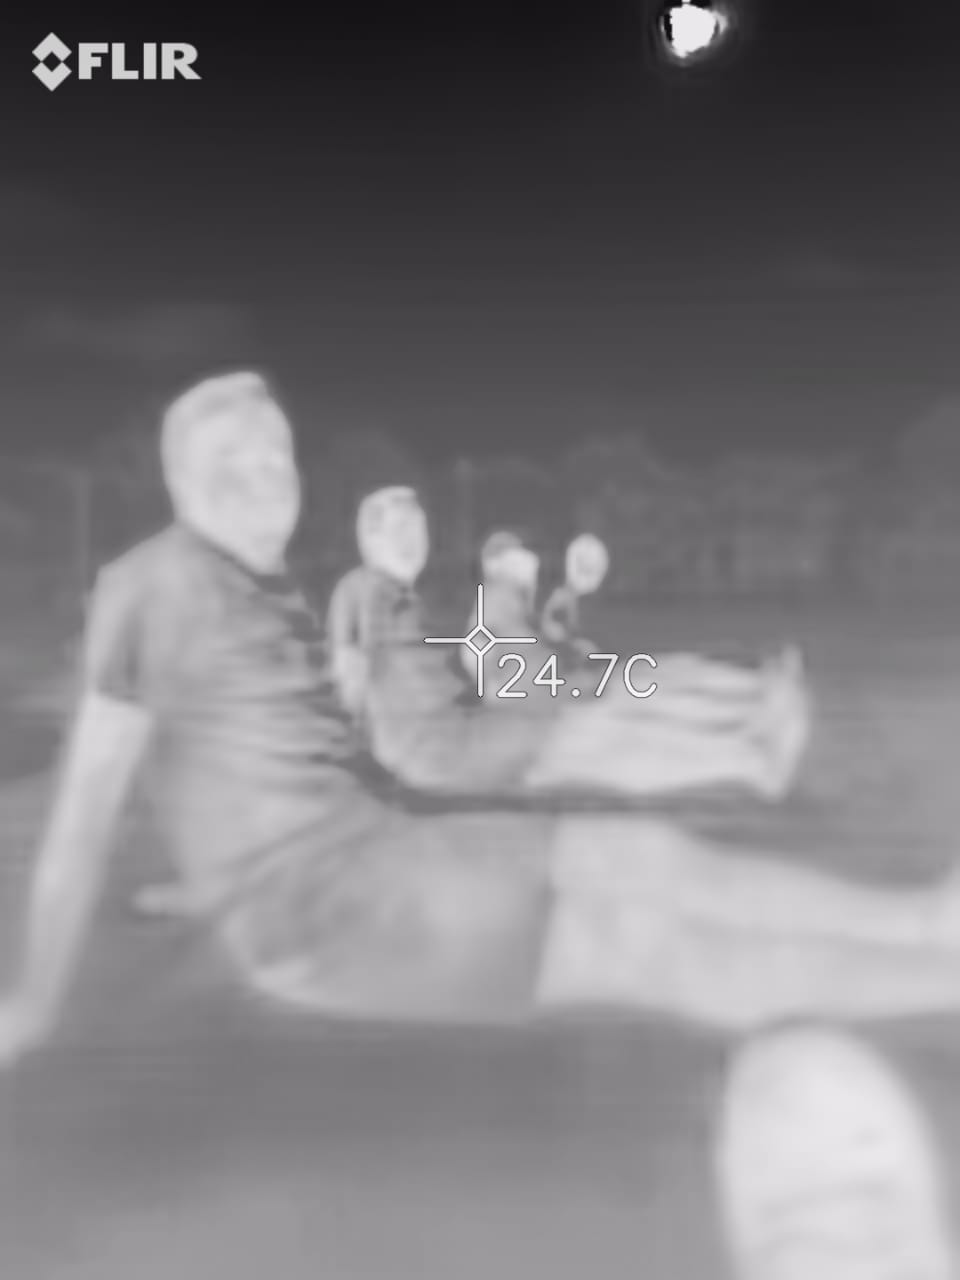head: (141, 354, 310, 572)
